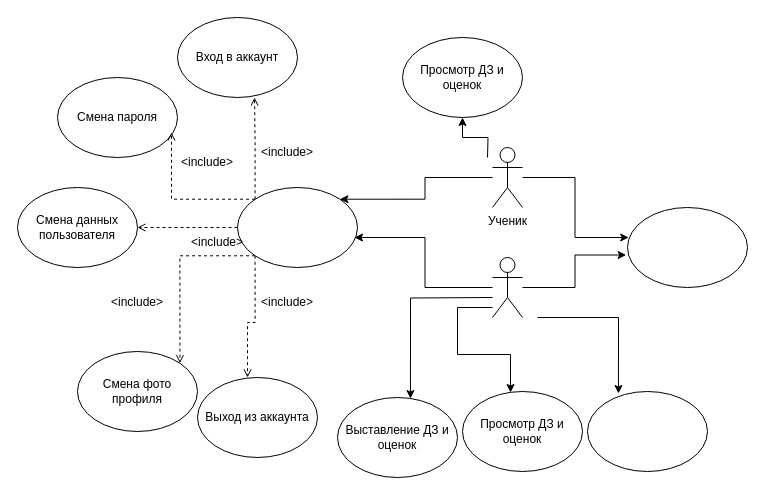
Some shapes in this 765 by 495 pixel diagram are drawn without their labels. The centre of each missing label's shape, as x and y in pixels:
"Взаимодействие с профилем" belongs at pixel 297 227.
"Просмотр страницы дневника" belongs at pixel 687 247.
"Удаление ДЗ и оценок" belongs at pixel 647 431.
"Учитель" belongs at pixel 507 287.
